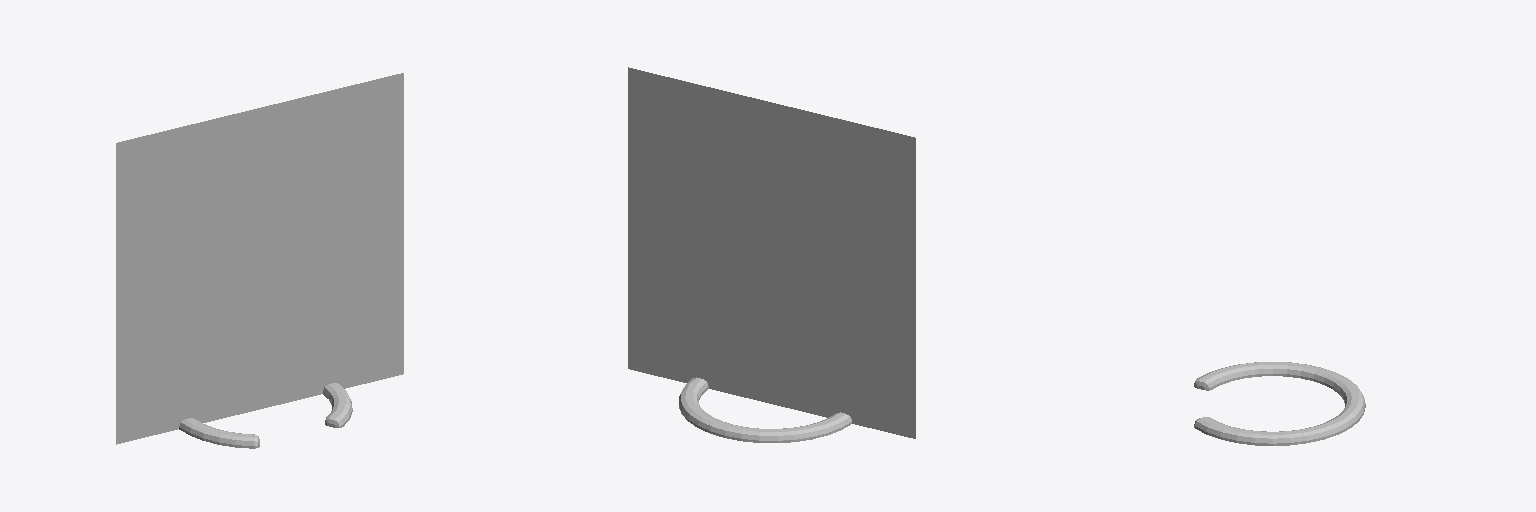
The picture shows the model from 3 angles: view 1: azimuth 30°, elevation 25°; view 2: azimuth 150°, elevation 25°; view 3: azimuth 270°, elevation 25°; orthographic projection.
Visible parts, largest first — view 1: 0back_0FRONT_Plane.002, 0front_0FRONT_Plane.000, 0BASE_color_0BASE_Cylinder.006; view 2: 0front_0FRONT_Plane.000, 0back_0FRONT_Plane.002, 0BASE_color_0BASE_Cylinder.006; view 3: 0BASE_color_0BASE_Cylinder.006.
Boxes of the visible parts, x1,y1,x2,y2 form: 0back_0FRONT_Plane.002: [116, 73, 403, 416]; 0front_0FRONT_Plane.000: [116, 360, 279, 444]; 0BASE_color_0BASE_Cylinder.006: [179, 383, 352, 447]; 0front_0FRONT_Plane.000: [628, 67, 915, 409]; 0back_0FRONT_Plane.002: [762, 364, 915, 438]; 0BASE_color_0BASE_Cylinder.006: [679, 377, 851, 442]; 0BASE_color_0BASE_Cylinder.006: [1207, 362, 1363, 445].
Size of the model in its own units: 3.58 by 3.58 by 1.84.